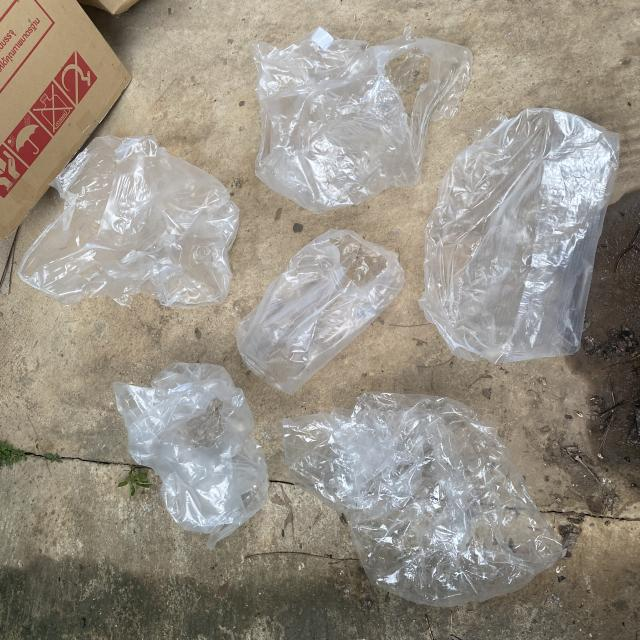Single-layer Plastic: (282, 392, 561, 606), (419, 109, 619, 364), (252, 28, 472, 212), (19, 136, 239, 308), (114, 362, 269, 550), (236, 229, 404, 394)
